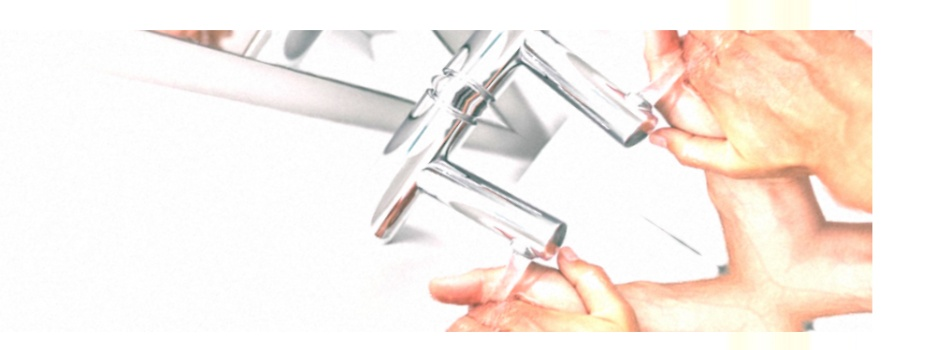washing hand: (281, 133, 705, 349)
